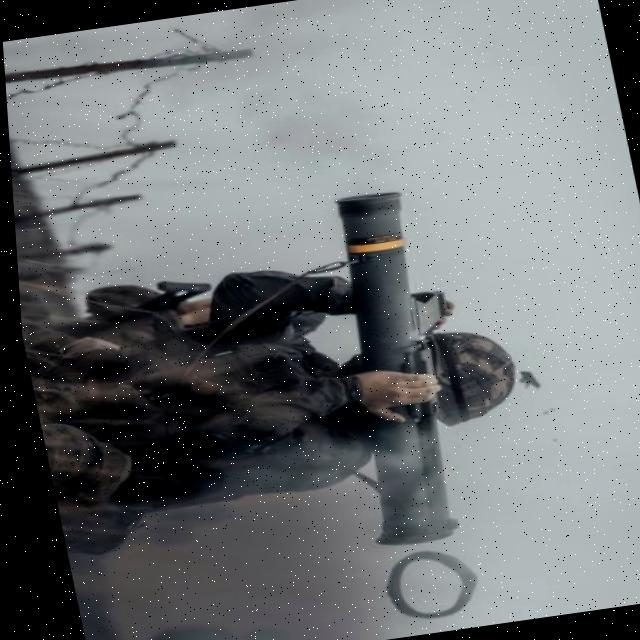rocket: (298, 187, 471, 552)
